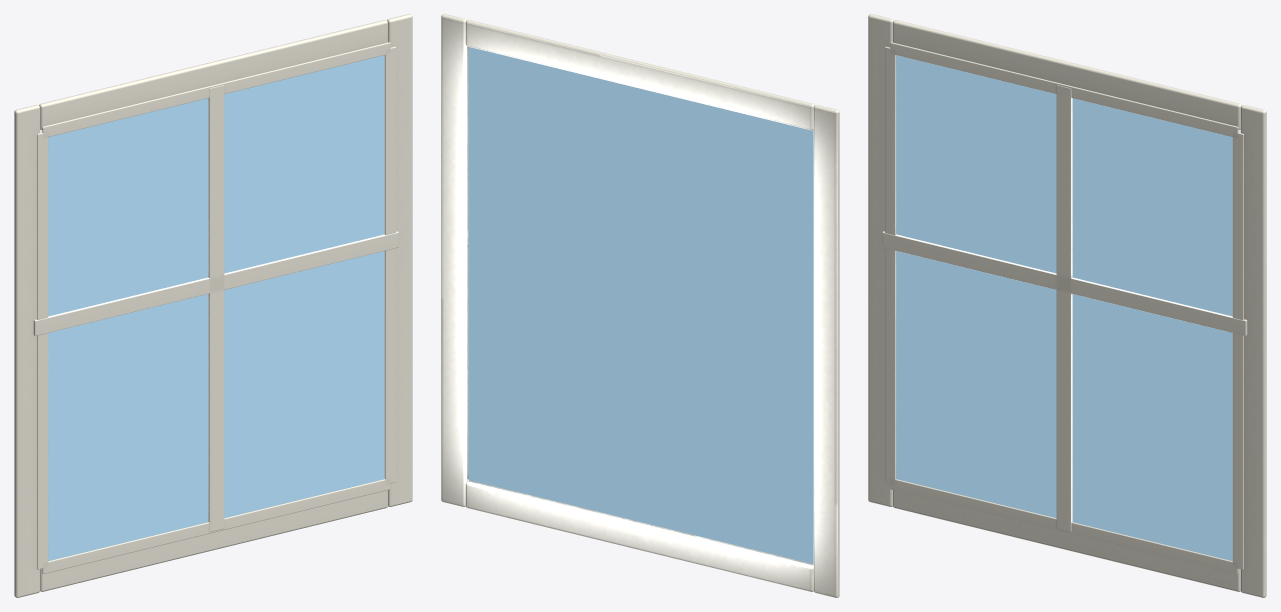
Rendered from windowPlain.glb.
3 views of the same model, side by side, from view 1: azimuth 30°, elevation 25°; view 2: azimuth 150°, elevation 25°; view 3: azimuth 330°, elevation 25° (orthographic).
Visible parts, largest first — view 1: Window glass, Window frame, Window frame.001, Window frame.003, Window muntin, Window frame.002, Window crossbar, Opening sash upright, Opening sash upright.001, Opening sash rail.001, Opening sash rail; view 2: Window glass, Window frame, Window frame.001, Window frame.003, Window frame.002, Opening sash upright.001, Opening sash rail; view 3: Window glass, Window frame.001, Window frame, Window frame.003, Window muntin, Window frame.002, Window crossbar, Opening sash upright.001, Opening sash upright, Opening sash rail.001, Opening sash rail.
Part boxes in pixels (bbox=[...]): Window glass: bbox=[41, 55, 384, 560]; Window frame: bbox=[14, 105, 40, 597]; Window frame.001: bbox=[387, 14, 412, 506]; Window frame.003: bbox=[39, 20, 387, 130]; Window muntin: bbox=[208, 85, 224, 531]; Window frame.002: bbox=[40, 490, 387, 591]; Window crossbar: bbox=[33, 231, 398, 335]; Opening sash upright: bbox=[37, 132, 48, 569]; Opening sash upright.001: bbox=[384, 46, 395, 483]; Opening sash rail.001: bbox=[42, 42, 390, 137]; Opening sash rail: bbox=[42, 479, 390, 573]; Window glass: bbox=[468, 47, 813, 564]; Window frame: bbox=[813, 105, 839, 597]; Window frame.001: bbox=[441, 14, 467, 506]; Window frame.003: bbox=[466, 20, 814, 130]; Window frame.002: bbox=[466, 481, 813, 591]; Opening sash upright.001: bbox=[467, 46, 468, 478]; Opening sash rail: bbox=[469, 480, 813, 565]; Window glass: bbox=[896, 55, 1239, 560]; Window frame.001: bbox=[1240, 105, 1266, 597]; Window frame: bbox=[868, 14, 893, 506]; Window frame.003: bbox=[893, 20, 1241, 130]; Window muntin: bbox=[1056, 85, 1072, 531]; Window frame.002: bbox=[893, 490, 1240, 591]; Window crossbar: bbox=[882, 231, 1247, 335]; Opening sash upright.001: bbox=[1232, 132, 1243, 569]; Opening sash upright: bbox=[885, 46, 896, 483]; Opening sash rail.001: bbox=[890, 42, 1238, 137]; Opening sash rail: bbox=[890, 479, 1238, 573].
Size of the model in its own units: 1.45 by 1.7 by 0.033.
